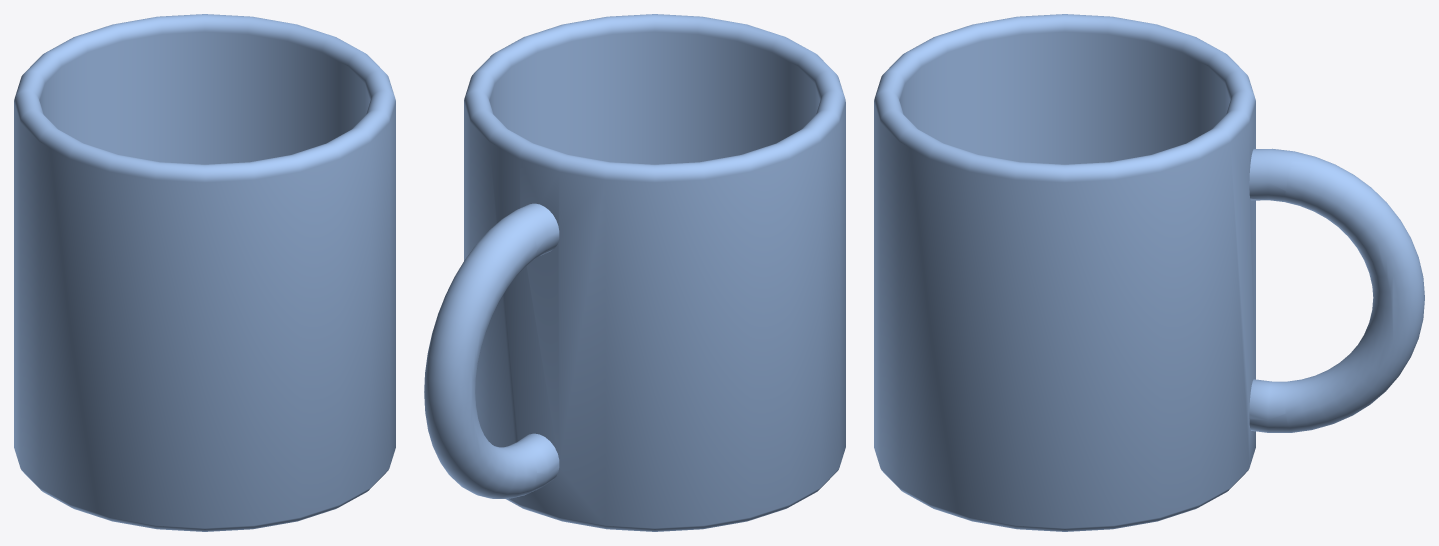
The picture shows the model from 3 angles, left to right: view 1: azimuth 30°, elevation 25°; view 2: azimuth 150°, elevation 25°; view 3: azimuth 270°, elevation 25°; orthographic projection.
Parts seen in each view (by area): view 1: mesh1_mesh1-geometry_1; view 2: mesh1_mesh1-geometry_1; view 3: mesh1_mesh1-geometry_1.
Part boxes in pixels (x1,y1,x2,y2): mesh1_mesh1-geometry_1: [14, 14, 395, 531]; mesh1_mesh1-geometry_1: [424, 14, 845, 531]; mesh1_mesh1-geometry_1: [874, 14, 1424, 531].
Bounding box in the file's own units: 0.4885 × 0.5146 × 0.7046.
